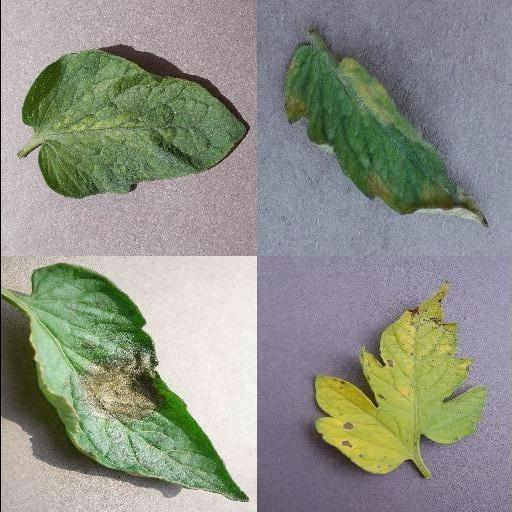Late Blight: (22, 263, 250, 503)
Leaf Mold: (281, 46, 489, 229)
Septoria: (312, 282, 488, 476)
Spider Mites: (20, 48, 246, 200)
